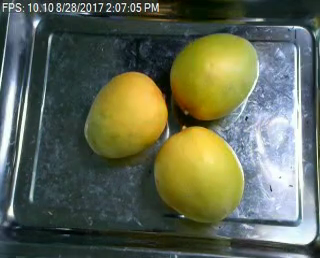Mango: (151, 125, 248, 224), (168, 30, 260, 122), (83, 71, 170, 156)
